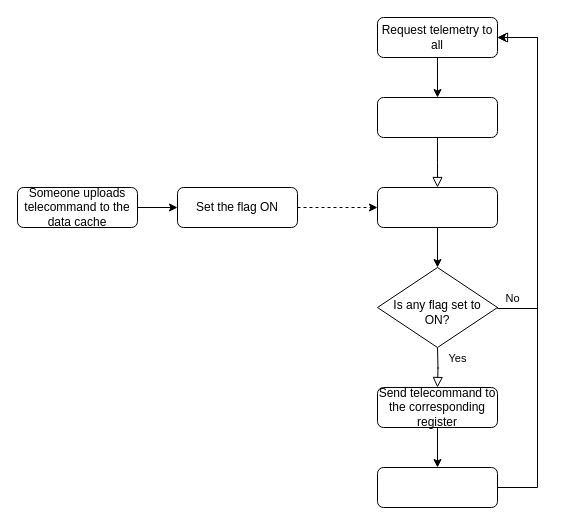
The diagram is 565 pixels wide and 525 high, and some of its shapes have lost their labels. The centre of each missing label's shape, as x and y in pixels:
Checking telecommand flag: point 437,207
Set the flag to OFF: point 437,487
Upload received data to datacache: point 437,117
